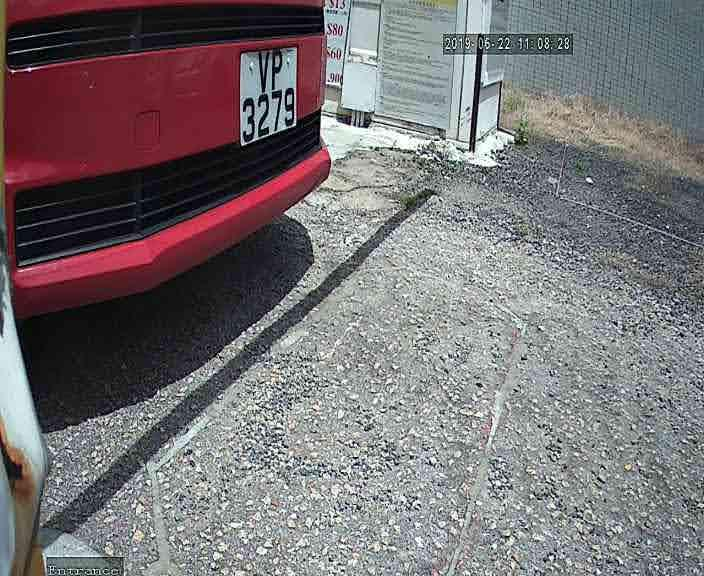bottom_left_lp: (238, 140, 247, 150)
bottom_right_lp: (292, 121, 300, 129)
top_left_lp: (237, 49, 247, 59)
top_right_lp: (292, 44, 301, 55)
